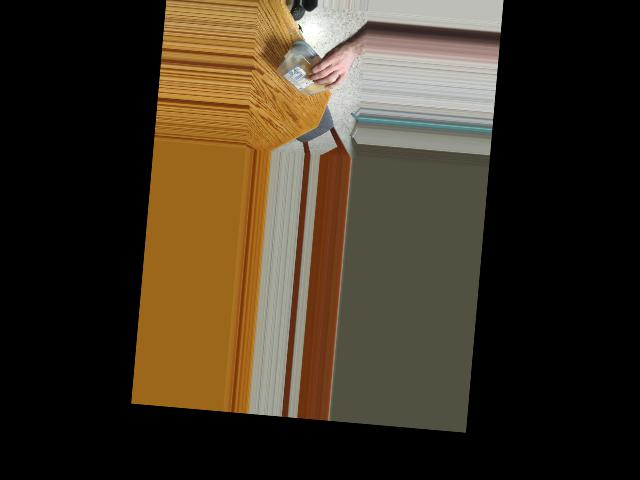cheese: (275, 40, 343, 98)
